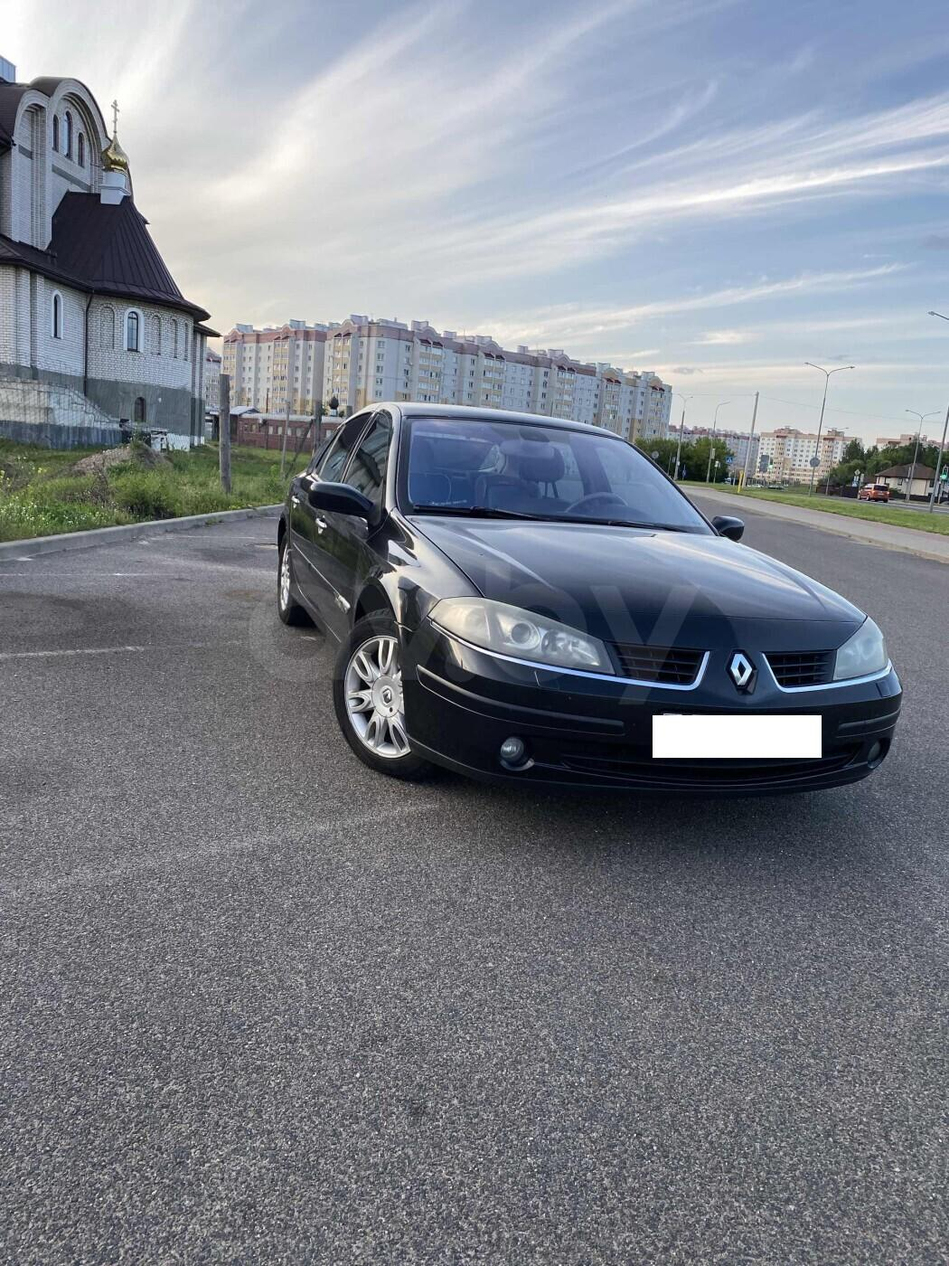Laguna_2005-2007: (269, 392, 911, 836)
